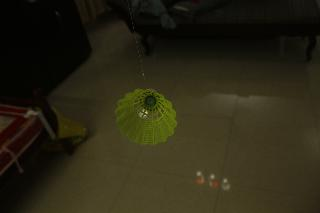shuttlecock: (114, 88, 176, 145)
